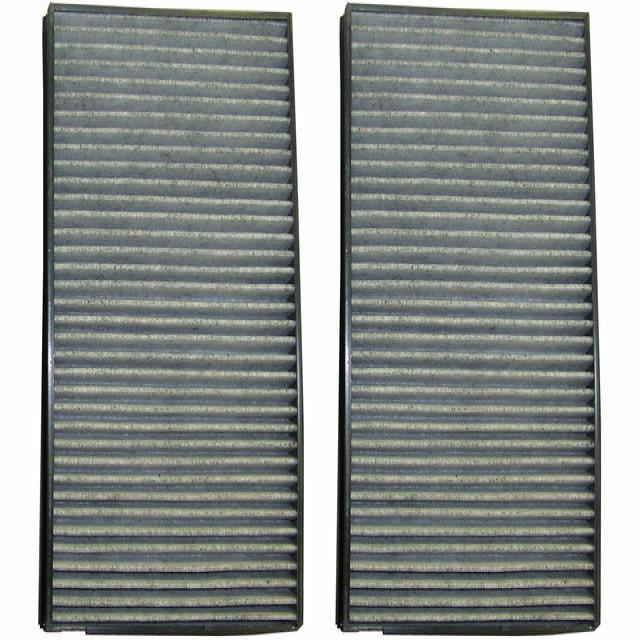air_filter: (36, 2, 311, 640), (335, 4, 602, 638)
